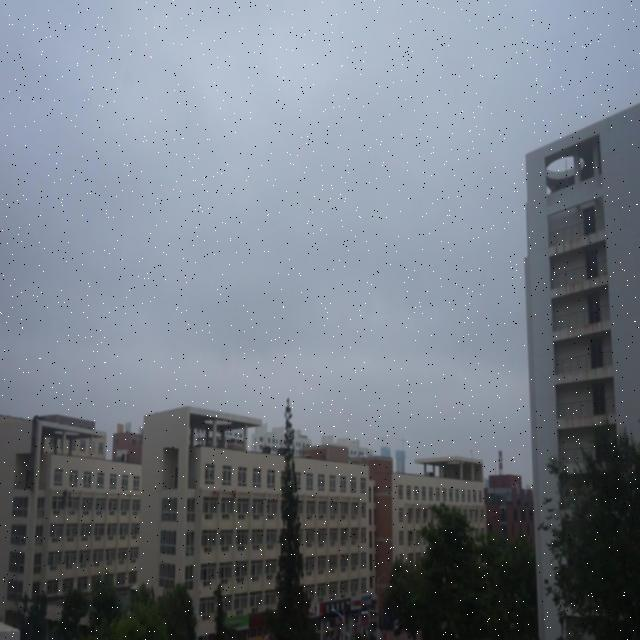UAV: (359, 454, 369, 464)
